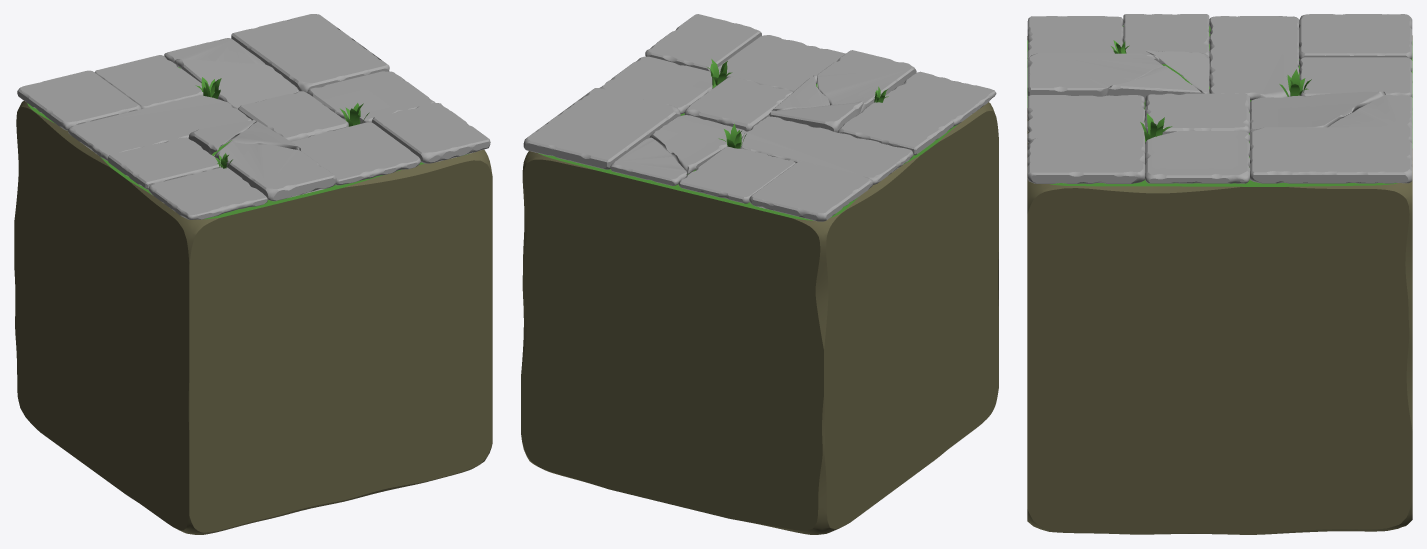
Rendered from Safezone_Tile_01.fbx.
3 views of the same model, side by side, from view 1: azimuth 30°, elevation 25°; view 2: azimuth 150°, elevation 25°; view 3: azimuth 270°, elevation 25° (orthographic). The views are drawn at different scales.
Parts seen in each view (by area): view 1: Safezone_Tile_01; view 2: Safezone_Tile_01; view 3: Safezone_Tile_01.
Part boxes in pixels (x1,y1,x2,y2): Safezone_Tile_01: (14, 14, 492, 534); Safezone_Tile_01: (521, 14, 998, 534); Safezone_Tile_01: (1027, 14, 1412, 534).
Bounding box in the file's own units: 500 × 537 × 500.
